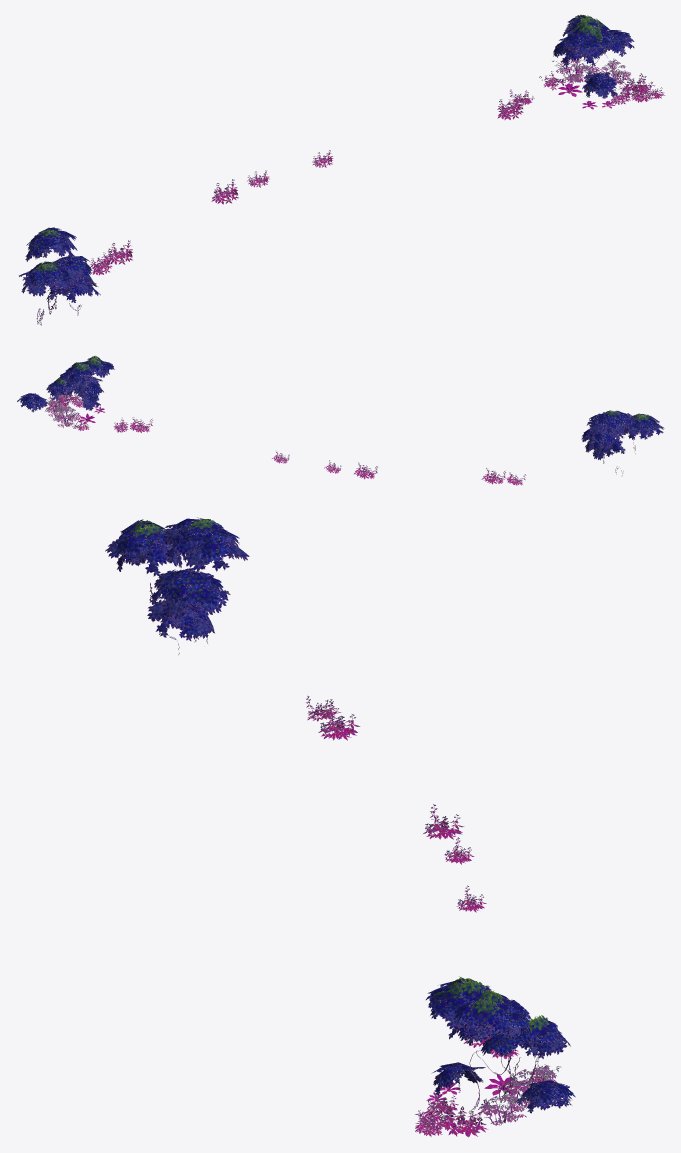
Rendered from zhibei11_1.fbx.
3 renders of one model, top to bottom at view 1: azimuth 30°, elevation 25°; view 2: azimuth 150°, elevation 25°; view 3: azimuth 270°, elevation 25°, orthographic. The views are drawn at different scales.
Visible parts, largest first — view 1: zhibei11_1; view 2: zhibei11_1; view 3: zhibei11_1.
Part boxes in pixels (x1=…): zhibei11_1: x1=19, y1=14, x2=665, y2=325; zhibei11_1: x1=17, y1=355, x2=664, y2=485; zhibei11_1: x1=105, y1=517, x2=575, y2=1137.
Size of the model in its own units: 7450 by 902 by 2854.
